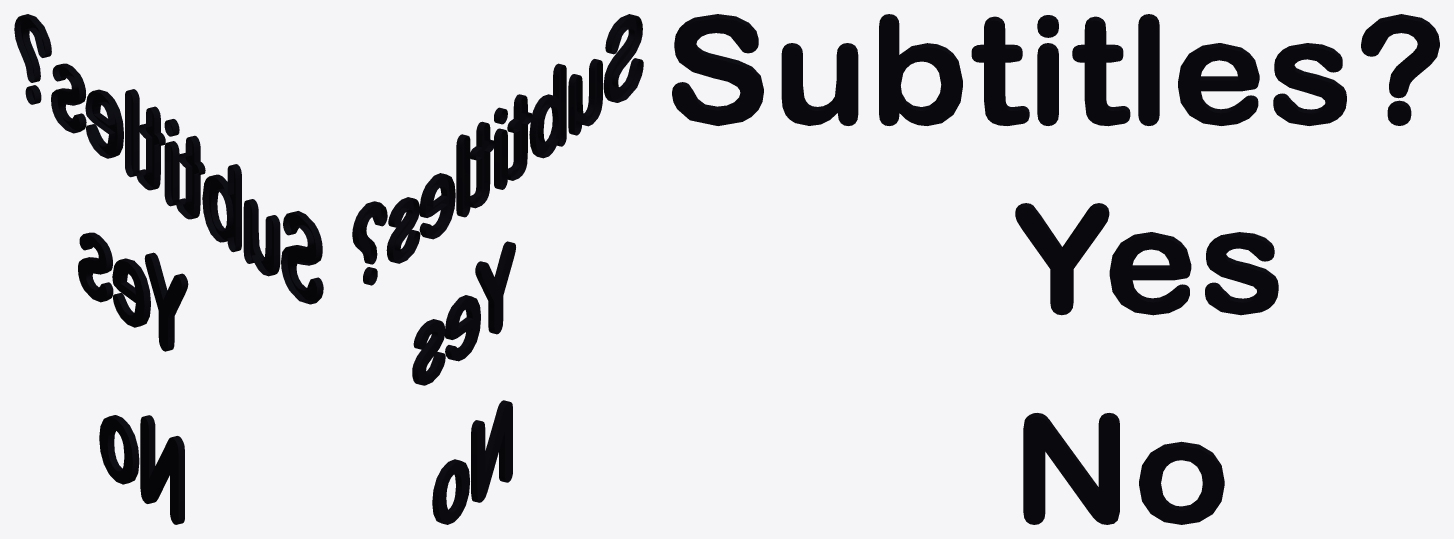
Rendered from Sign_Subtitles.fbx.
3 renders of one model, left to right at view 1: azimuth 30°, elevation 25°; view 2: azimuth 150°, elevation 25°; view 3: azimuth 270°, elevation 25°, orthographic. The views are drawn at different scales.
Parts seen in each view (by area): view 1: Sign_Subtitles; view 2: Sign_Subtitles; view 3: Sign_Subtitles.
Part boxes in pixels (left/top/right/bottom): Sign_Subtitles: left=14, top=14, right=323, bottom=524; Sign_Subtitles: left=352, top=14, right=643, bottom=524; Sign_Subtitles: left=672, top=14, right=1439, bottom=524.
Bounding box in the file's own units: 0.2 × 11.76 × 16.14.
Materials: 1 (1 with a texture image).
